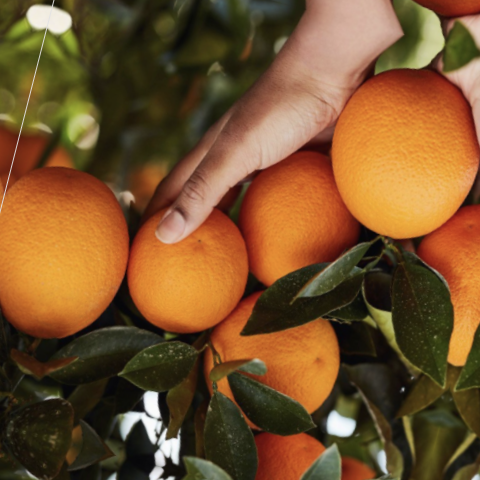orange: (301, 53, 480, 263), (0, 152, 169, 371), (103, 183, 270, 365)
